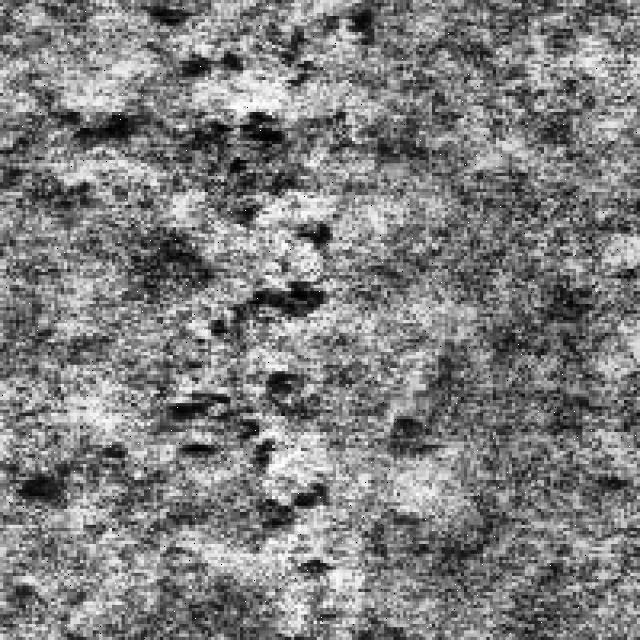Crazing: (166, 99, 336, 522)
